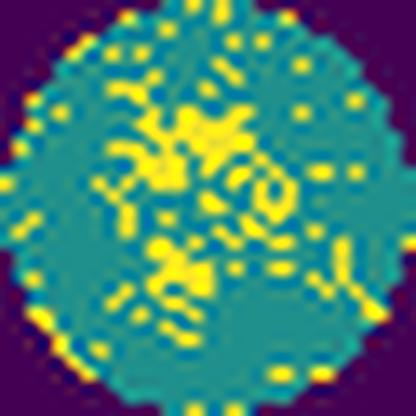Donut: (88, 79, 309, 356)
